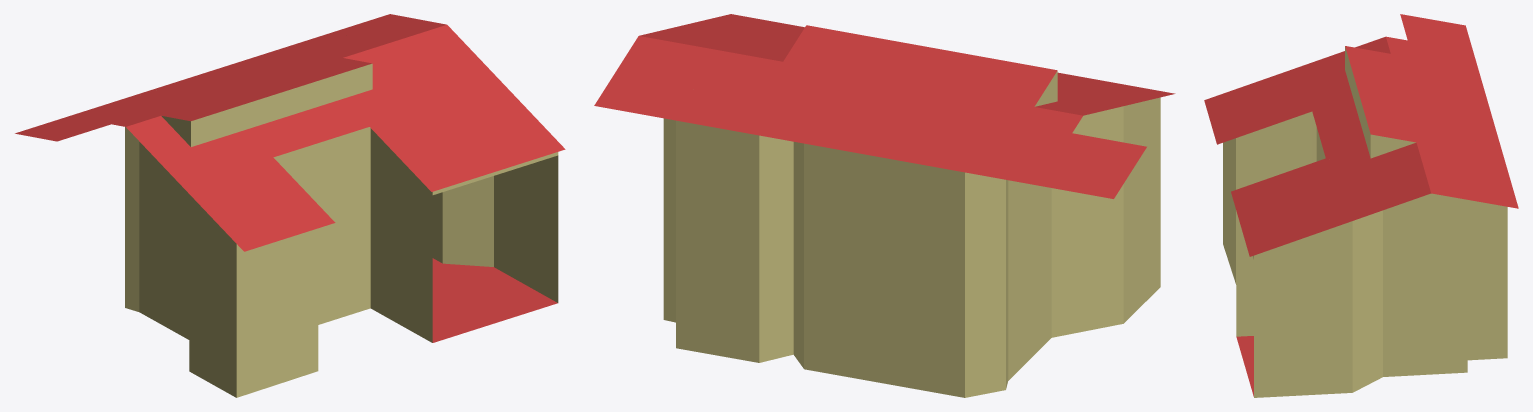
The picture shows the model from 3 angles, left to right: view 1: azimuth 30°, elevation 25°; view 2: azimuth 150°, elevation 25°; view 3: azimuth 270°, elevation 25°; orthographic projection. The views are drawn at different scales.
Size of the model in its own units: 23.55 by 15.88 by 11.57.
